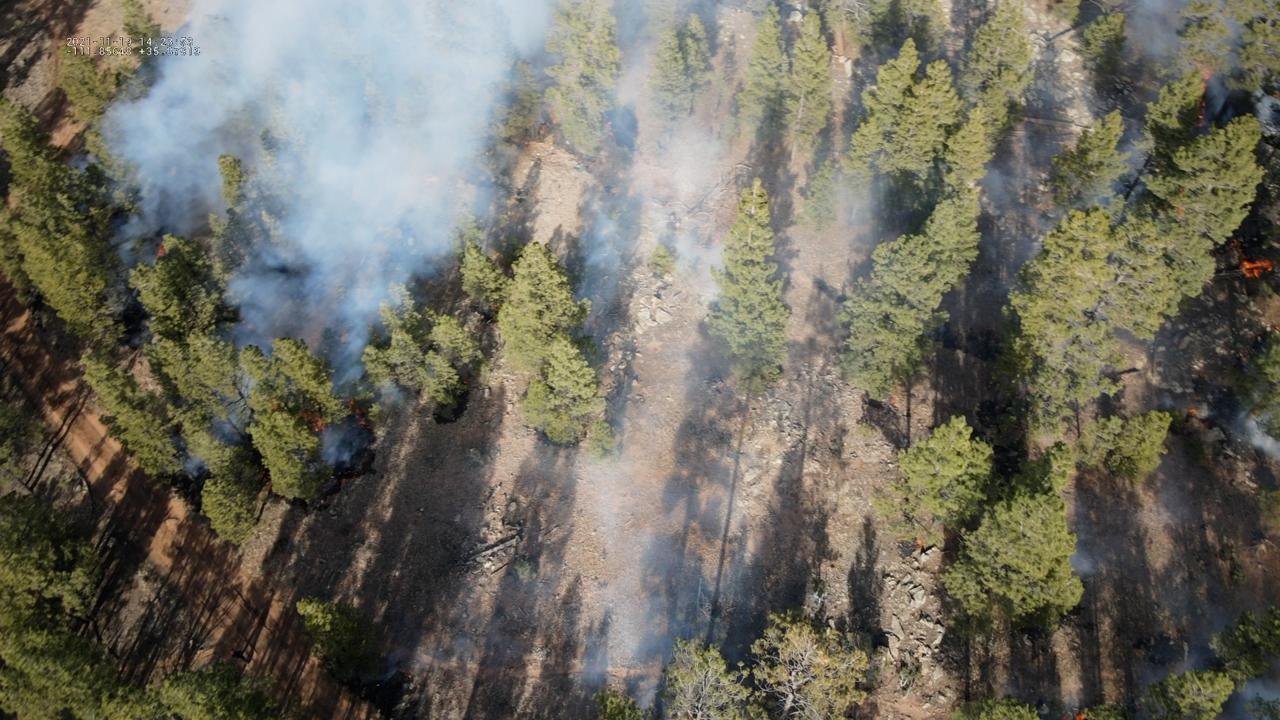fire: (1241, 258, 1274, 280), (1196, 59, 1214, 90), (308, 417, 328, 434), (153, 240, 168, 259), (1174, 206, 1187, 222), (911, 536, 924, 549), (269, 396, 279, 412), (343, 398, 354, 410), (887, 396, 899, 406), (1189, 407, 1199, 418), (1074, 712, 1084, 720), (358, 420, 367, 427), (1179, 187, 1185, 195)
smoke: (69, 0, 933, 713), (970, 123, 1153, 295), (1119, 0, 1280, 127), (1234, 408, 1280, 463), (1225, 679, 1280, 718), (1061, 543, 1098, 578)
